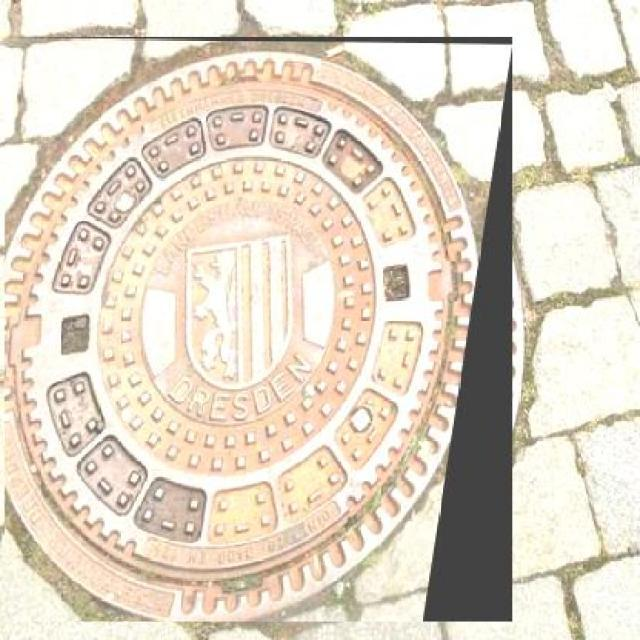Manhole: (5, 36, 512, 622)
